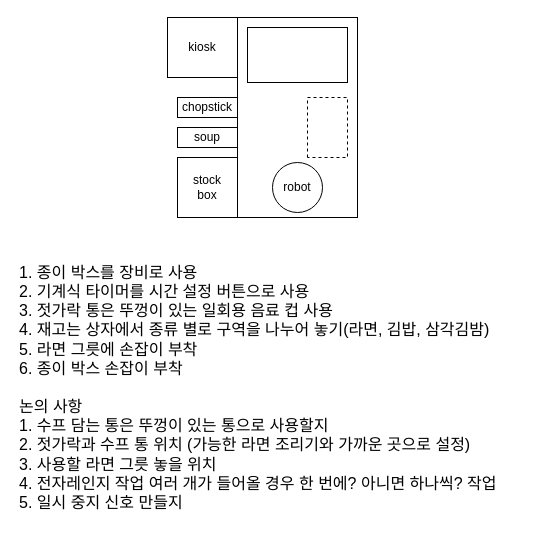
Some shapes in this 534 by 535 pixel diagram are drawn without their labels. Here are the shapes that lost their labels. From the top down, the centre of each, then its label:
At point 297,54: "전자레인지/ 라면 조리기".
At point 327,127: "pick up place".
